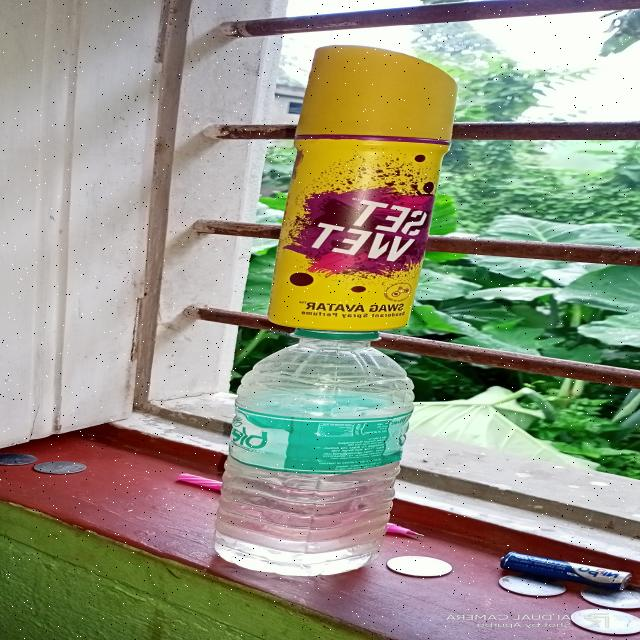plastic: (196, 324, 426, 580)
